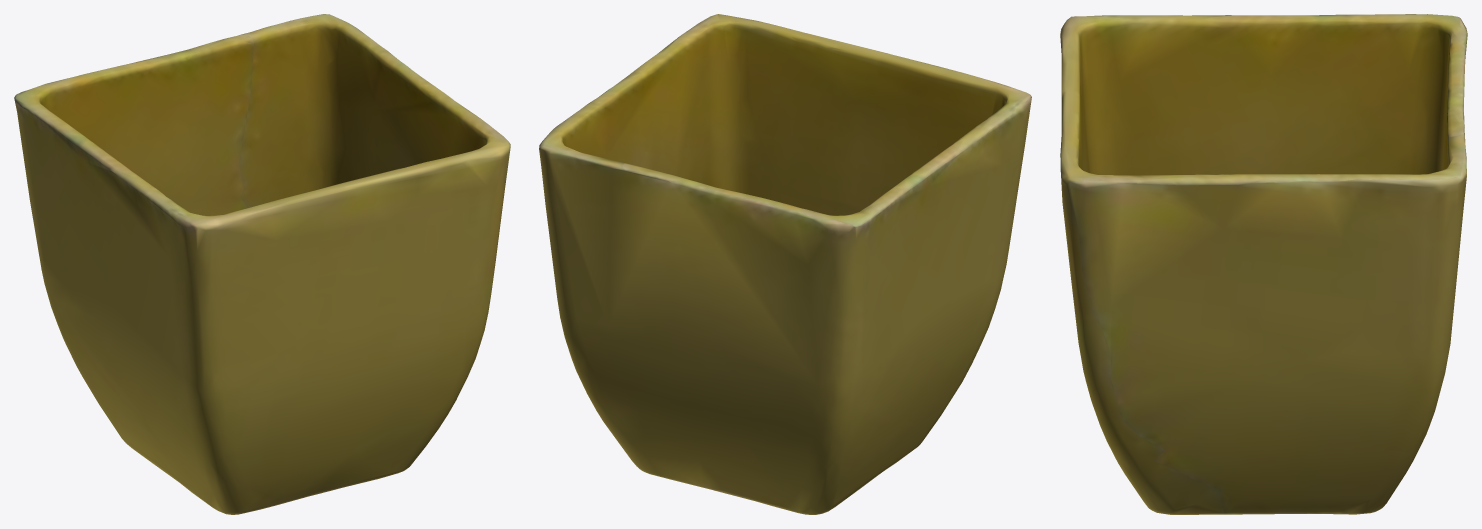
File: Ecoforms_Plant_Container_QP_Harvest-high.glb
3 renders of one model, left to right at view 1: azimuth 30°, elevation 25°; view 2: azimuth 150°, elevation 25°; view 3: azimuth 270°, elevation 25°, orthographic. The views are drawn at different scales.
Visible parts, largest first — view 1: Ecoforms_Plant_Container_QP_Harvest; view 2: Ecoforms_Plant_Container_QP_Harvest; view 3: Ecoforms_Plant_Container_QP_Harvest.
Part boxes in pixels (<box>): Ecoforms_Plant_Container_QP_Harvest: <box>14,14,510,514</box>; Ecoforms_Plant_Container_QP_Harvest: <box>539,14,1031,514</box>; Ecoforms_Plant_Container_QP_Harvest: <box>1060,14,1467,514</box>.
Bounding box in the file's own units: 0.088 × 0.0899 × 0.0874.
1 material, 1 textured.
